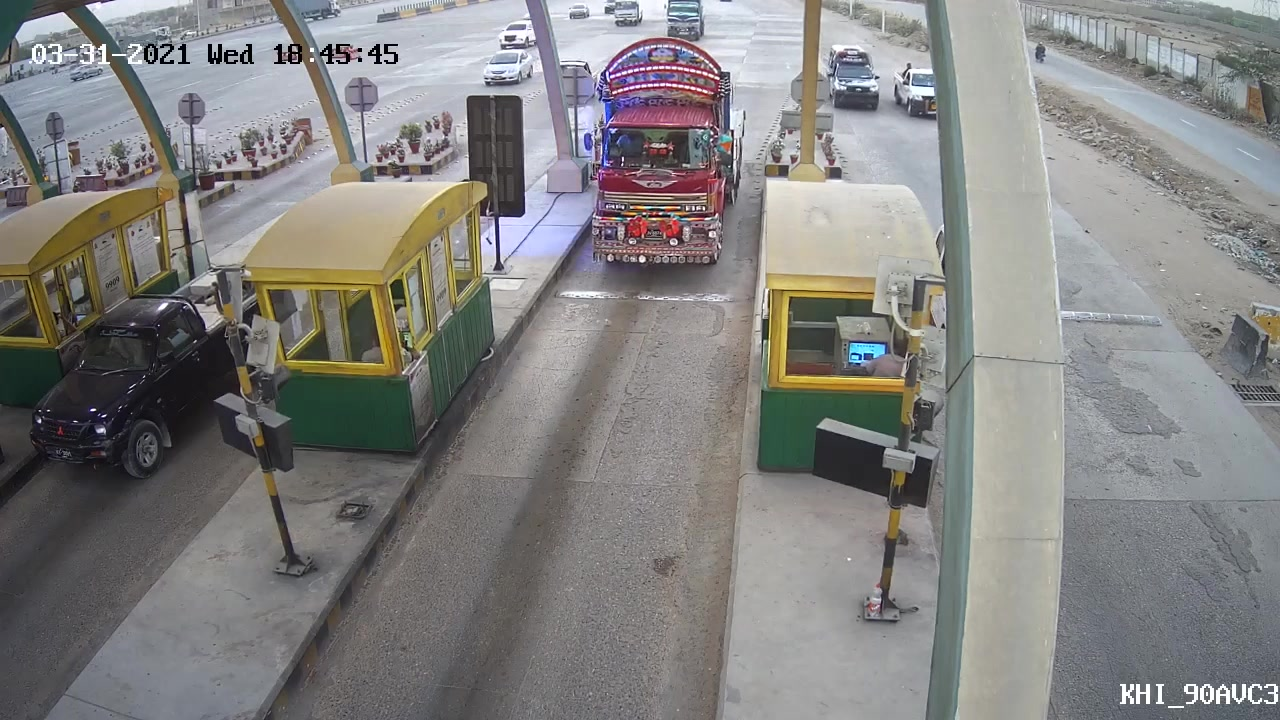F5: (568, 37, 752, 284)
